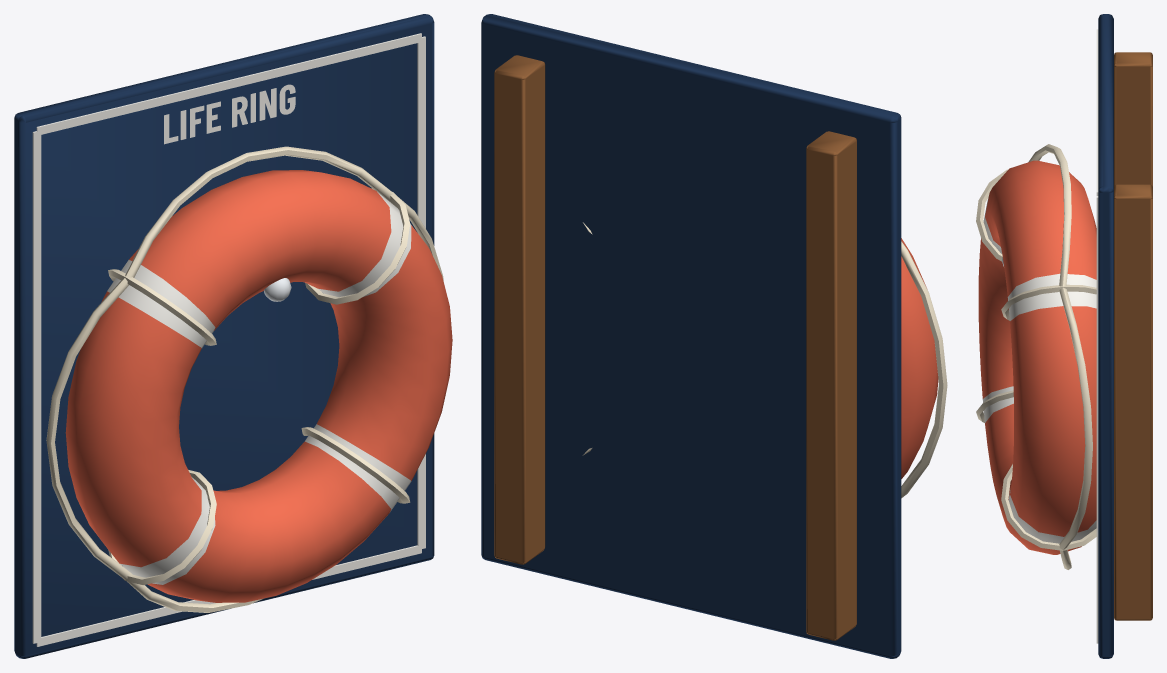
Rendered from life_ring_wall.glb.
3 views of the same model, side by side, from view 1: azimuth 30°, elevation 25°; view 2: azimuth 150°, elevation 25°; view 3: azimuth 270°, elevation 25° (orthographic). The views are drawn at different scales.
Parts seen in each view (by area): view 1: LifeRingWallMesh, LifeRing; view 2: LifeRingWallMesh, LifeRing; view 3: LifeRing, LifeRingWallMesh.
Boxes of the visible parts, bbox=[...] form: LifeRingWallMesh: bbox=[14, 14, 434, 658]; LifeRing: bbox=[46, 146, 452, 612]; LifeRingWallMesh: bbox=[481, 14, 901, 658]; LifeRing: bbox=[582, 222, 947, 498]; LifeRing: bbox=[976, 144, 1096, 569]; LifeRingWallMesh: bbox=[1001, 14, 1152, 658].
Size of the model in its own units: 0.826 by 1 by 0.3393.
7 materials, 1 textured.
